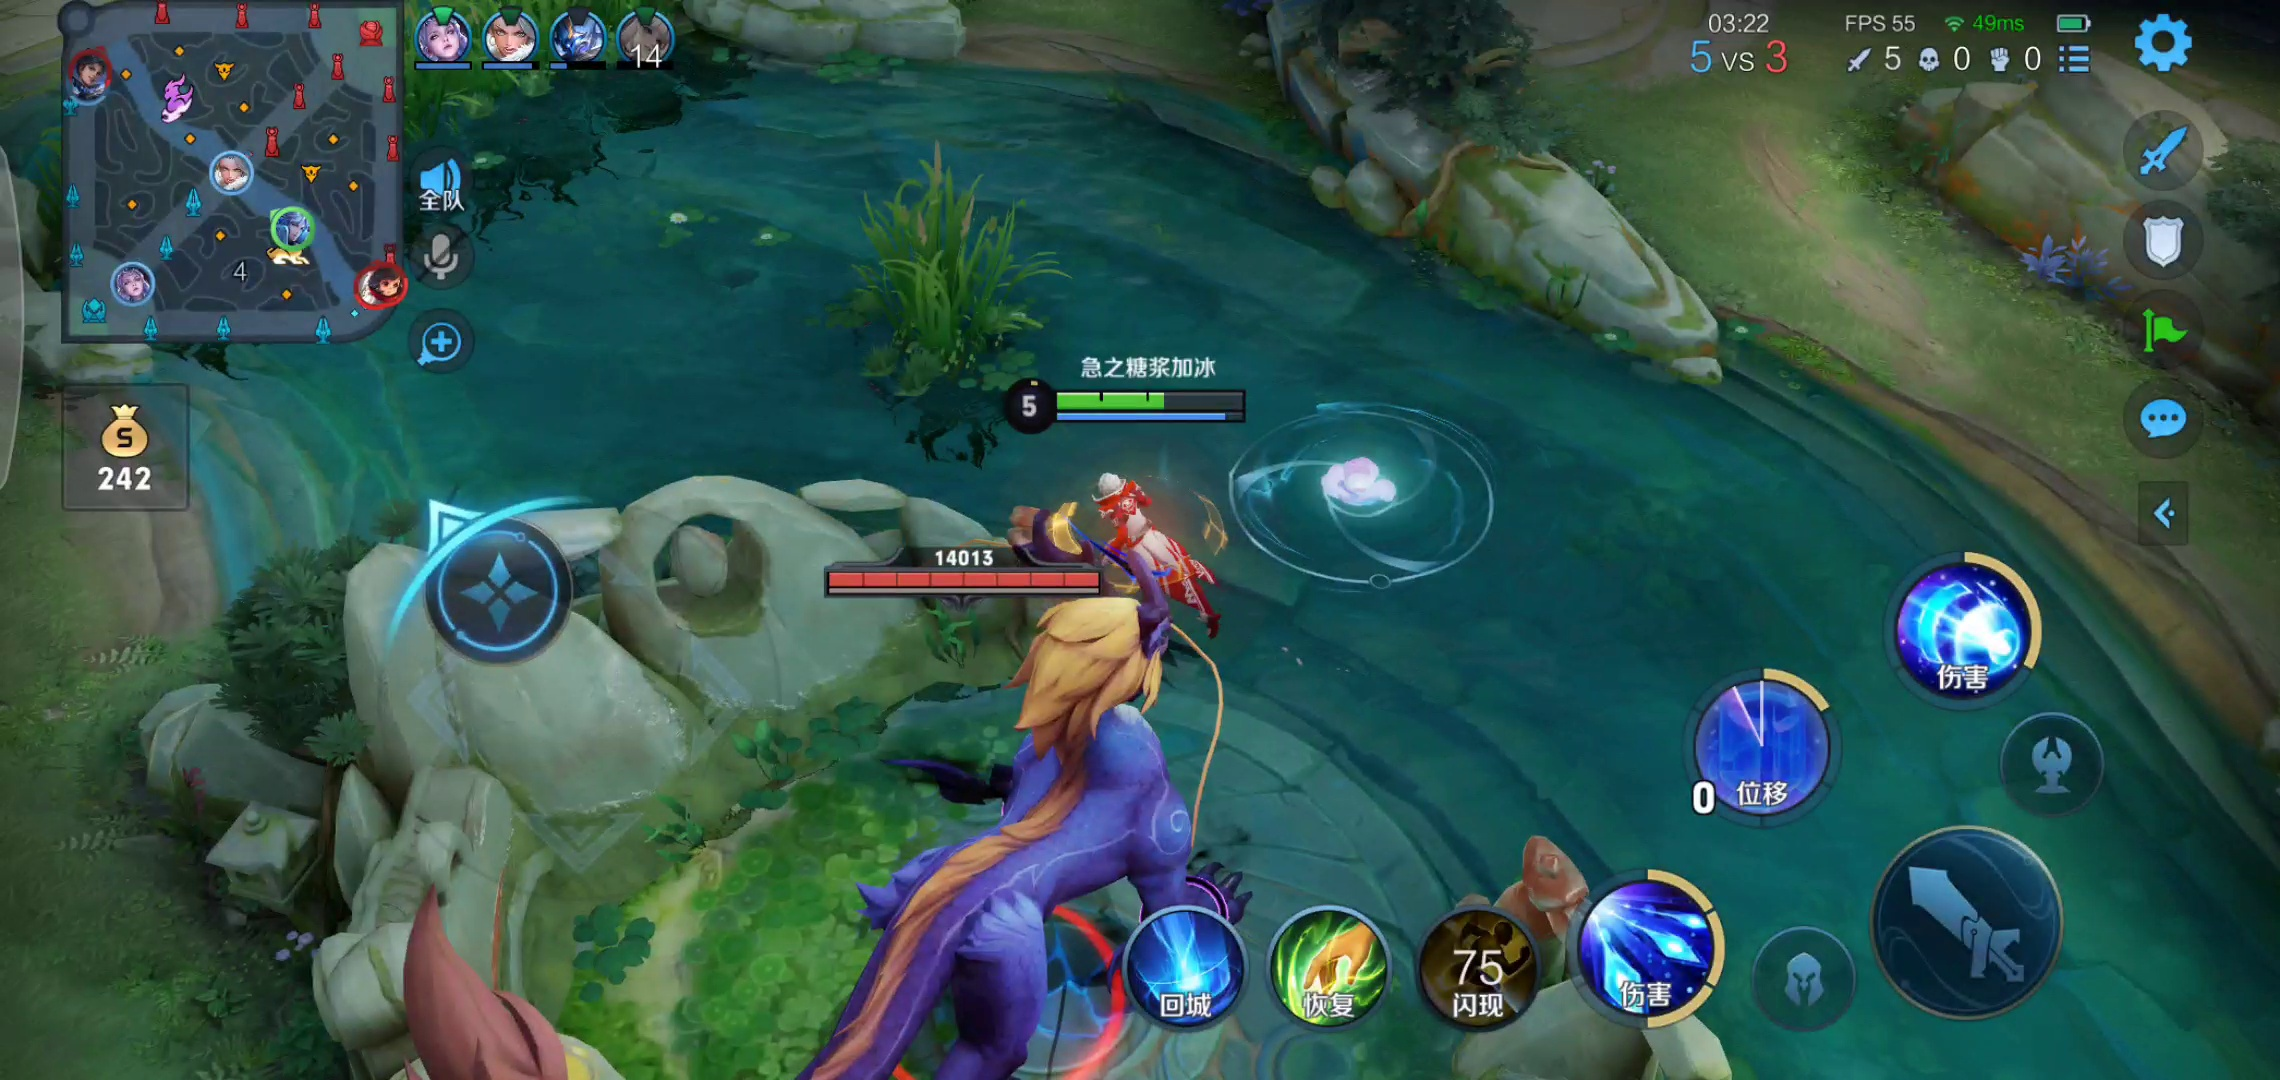dragon: (819, 605, 1297, 1080)
grass: (842, 167, 1021, 398)
hero: (1064, 470, 1235, 644)
